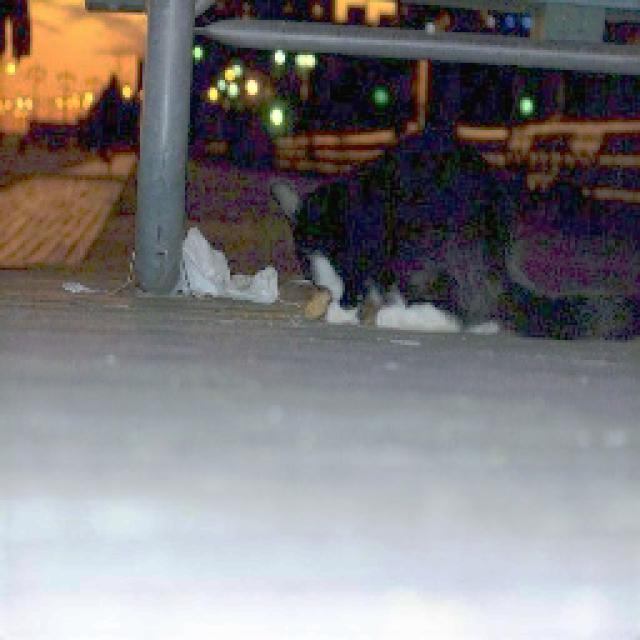cat: (259, 73, 640, 384)
